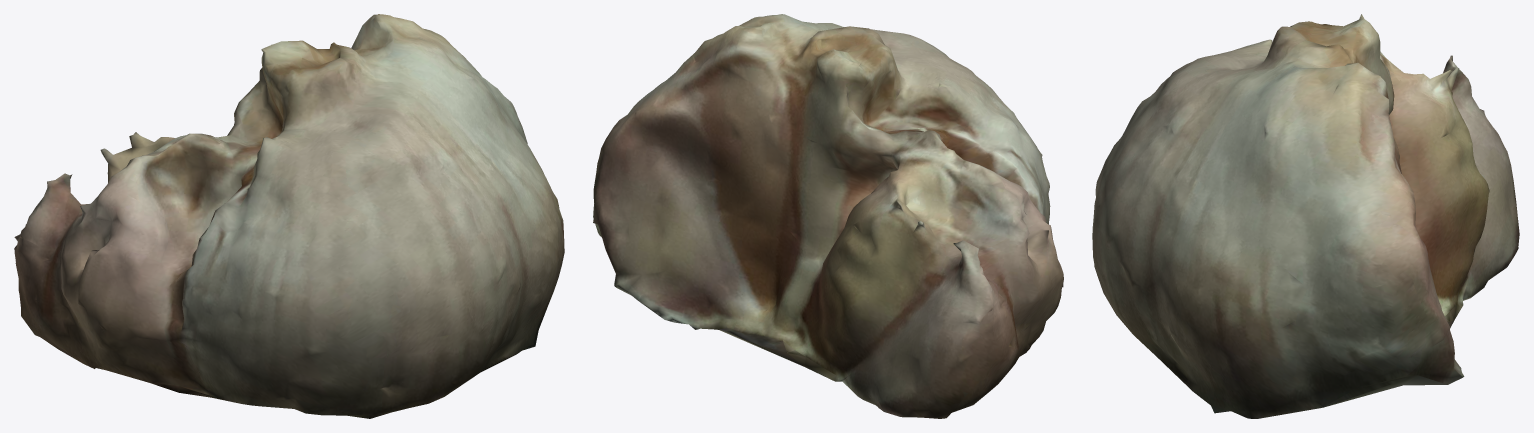
File: textured garlic.glb
3 renders of one model, left to right at view 1: azimuth 30°, elevation 25°; view 2: azimuth 150°, elevation 25°; view 3: azimuth 270°, elevation 25°, orthographic. The views are drawn at different scales.
Size of the model in its own units: 1000 by 639 by 780.
1 material, 1 textured.
